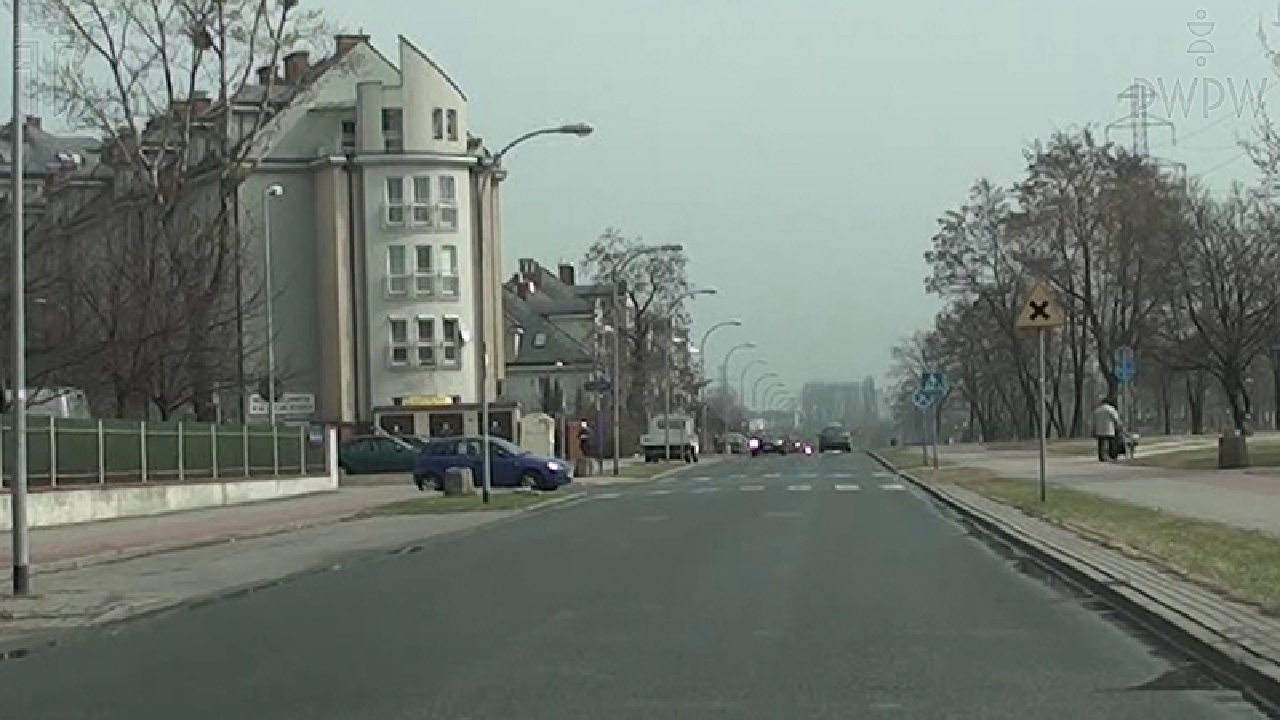A5: (1016, 284, 1064, 328)
